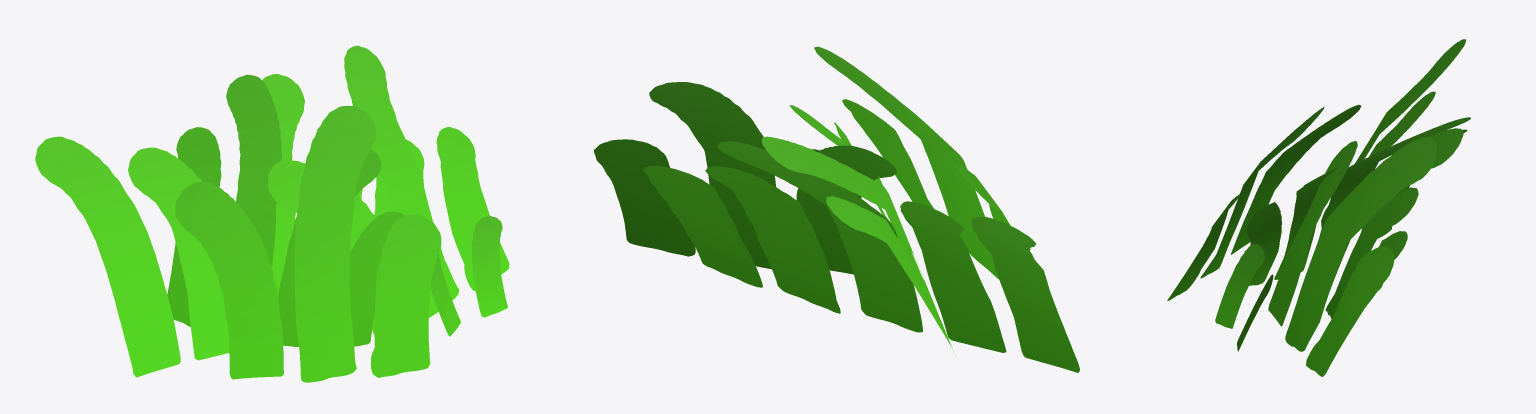
Rendered from Grass_1a.fbx.
3 views of the same model, side by side, from view 1: azimuth 30°, elevation 25°; view 2: azimuth 150°, elevation 25°; view 3: azimuth 270°, elevation 25° (orthographic). The views are drawn at different scales.
Visible parts, largest first — view 1: Grass_1a; view 2: Grass_1a; view 3: Grass_1a.
Part boxes in pixels (<box>): Grass_1a: <box>35,45,509,382</box>; Grass_1a: <box>594,46,1079,372</box>; Grass_1a: <box>1167,39,1470,376</box>.
Bounding box in the file's own units: 28.59 × 15.49 × 22.88.
